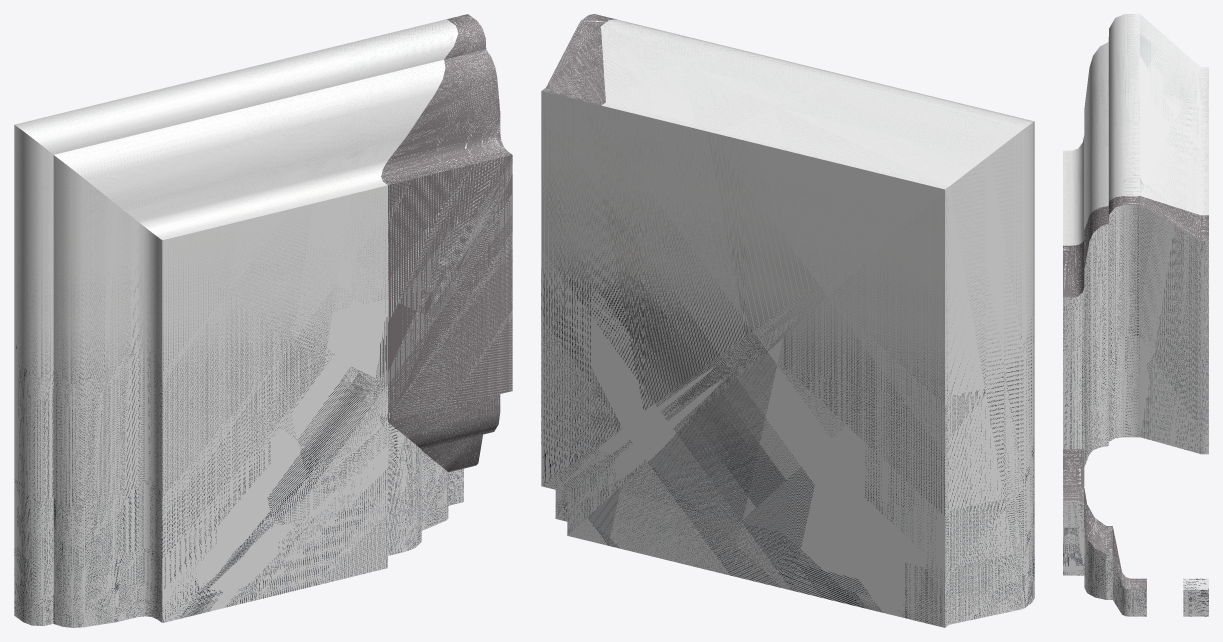
The model's file is original-37.obj.
The picture shows the model from 3 angles, left to right: view 1: azimuth 30°, elevation 25°; view 2: azimuth 150°, elevation 25°; view 3: azimuth 270°, elevation 25°; orthographic projection. The views are drawn at different scales.
Visible parts, largest first — view 1: LT_11_TL1/LT_11_TL/mesh28/mesh28-geometry#mesh28-geometry; view 2: LT_11_TL1/LT_11_TL/mesh28/mesh28-geometry#mesh28-geometry; view 3: LT_11_TL1/LT_11_TL/mesh28/mesh28-geometry#mesh28-geometry.
Part boxes in pixels (<box>): LT_11_TL1/LT_11_TL/mesh28/mesh28-geometry#mesh28-geometry: <box>14,14,512,627</box>; LT_11_TL1/LT_11_TL/mesh28/mesh28-geometry#mesh28-geometry: <box>541,14,1034,627</box>; LT_11_TL1/LT_11_TL/mesh28/mesh28-geometry#mesh28-geometry: <box>1063,14,1208,616</box>.
Bounding box in the file's own units: 0.0879 × 0.0909 × 0.0284.
